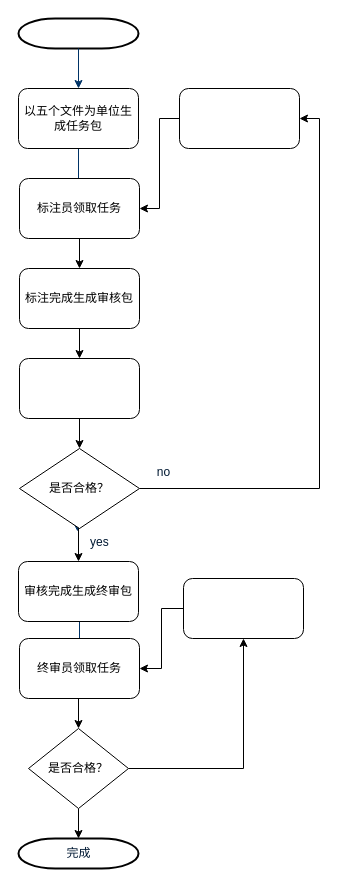
Some shapes in this 345 by 886 pixel diagram are drawn without their labels. The shapes that lost their labels are listed below. From the top down, each one's centre as x and y in pixels, then its label:
At point 78,33: "任务文件上传".
At point 239,118: "不合格的标注任务".
At point 79,388: "审核员领取任务".
At point 243,608: "不合格的审核任务".
